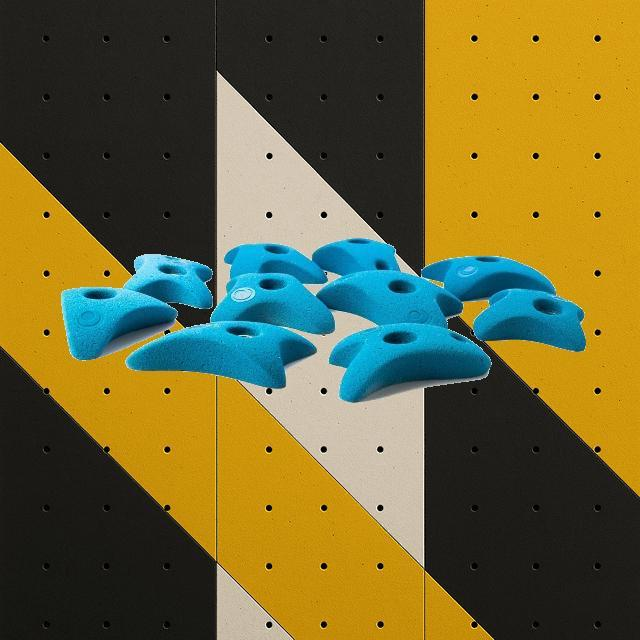Pinch: (328, 322, 492, 402), (124, 322, 316, 388), (60, 285, 176, 359), (318, 269, 462, 327), (212, 270, 334, 334), (472, 288, 586, 352), (422, 256, 554, 302), (123, 254, 213, 308), (222, 242, 324, 284), (310, 237, 400, 277)
